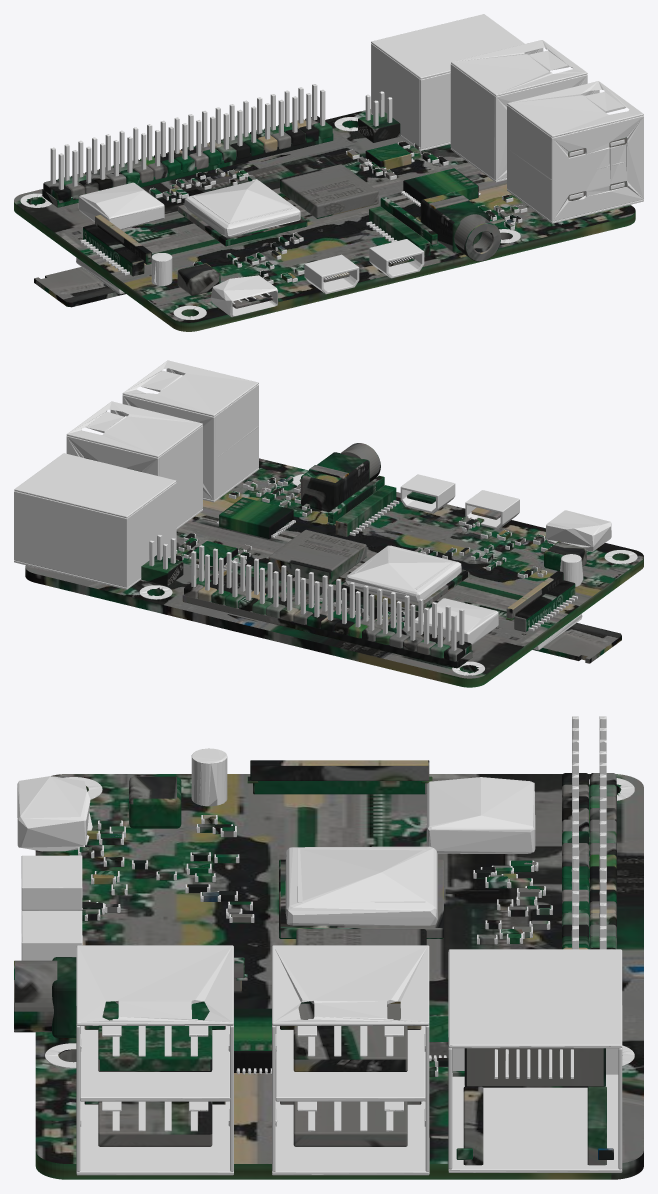
Rendered from raspberry-pi.glb.
3 views of the same model, one above another, from view 1: azimuth 30°, elevation 25°; view 2: azimuth 150°, elevation 25°; view 3: azimuth 270°, elevation 25° (orthographic). The views are drawn at different scales.
Parts seen in each view (by area): view 1: board, microsd_card, camera_latch, display_latch; view 2: board, microsd_card, display_latch, camera_latch; view 3: board, display_latch.
Boxes of the visible parts, x1=… form: board: x1=14, y1=14, x2=643, y2=331; microsd_card: x1=34, y1=267, x2=125, y2=307; camera_latch: x1=380, y1=197, x2=438, y2=246; display_latch: x1=95, y1=215, x2=151, y2=264; board: x1=14, y1=360, x2=643, y2=687; microsd_card: x1=532, y1=623, x2=621, y2=663; display_latch: x1=506, y1=571, x2=563, y2=620; camera_latch: x1=327, y1=475, x2=384, y2=525; board: x1=14, y1=716, x2=643, y2=1179; display_latch: x1=247, y1=760, x2=432, y2=783.
Bounding box in the file's own units: 0.0955 × 0.0197 × 0.058.
1 material, 1 textured.
